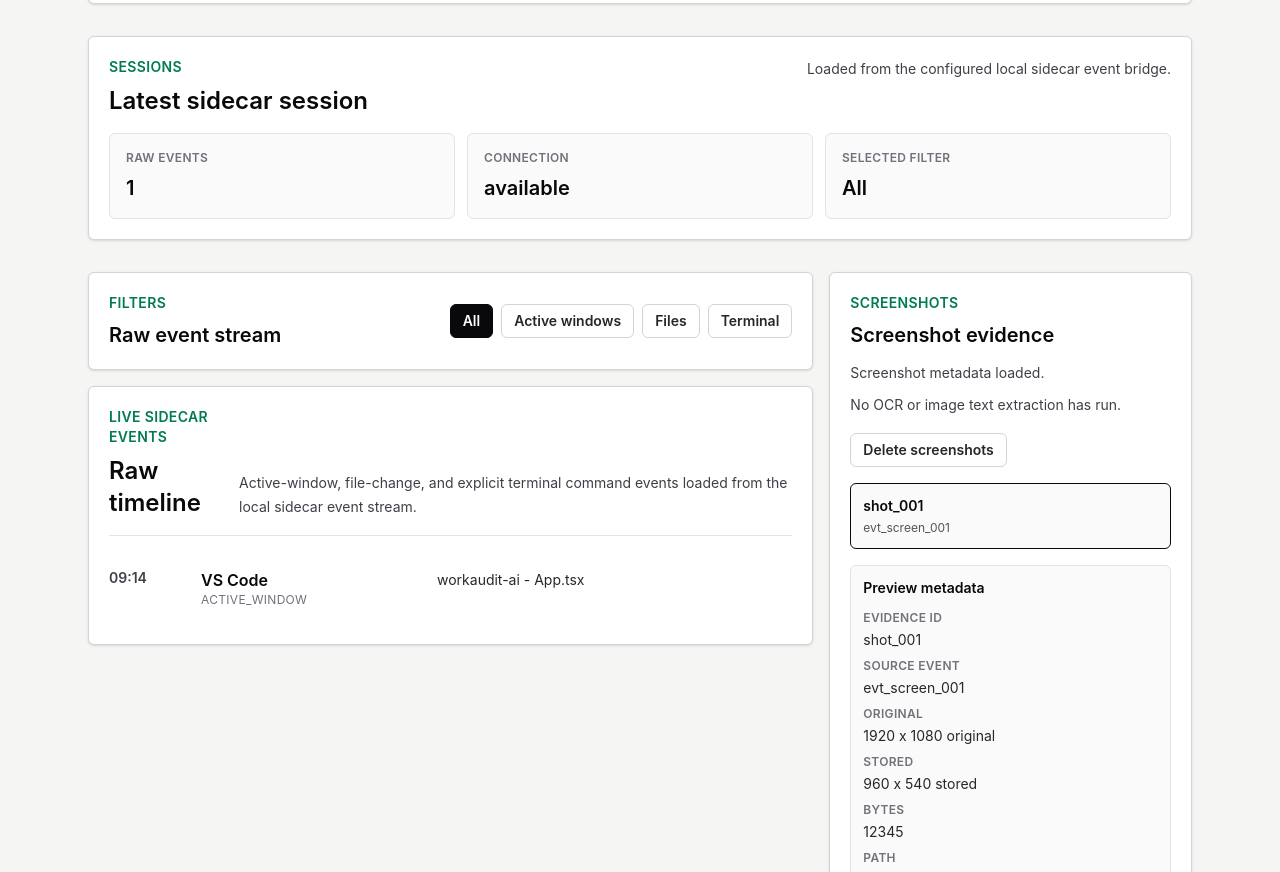
Test: deletes screenshots through the desktop bridge and shows deletion counts
(page scrolled)
expect the 1st text "shot_001" is shown: met, box 863,497 -> 923,514
Step 1. Click the button "Delete screenshots" → (929,450), box 850,433 -> 1007,467
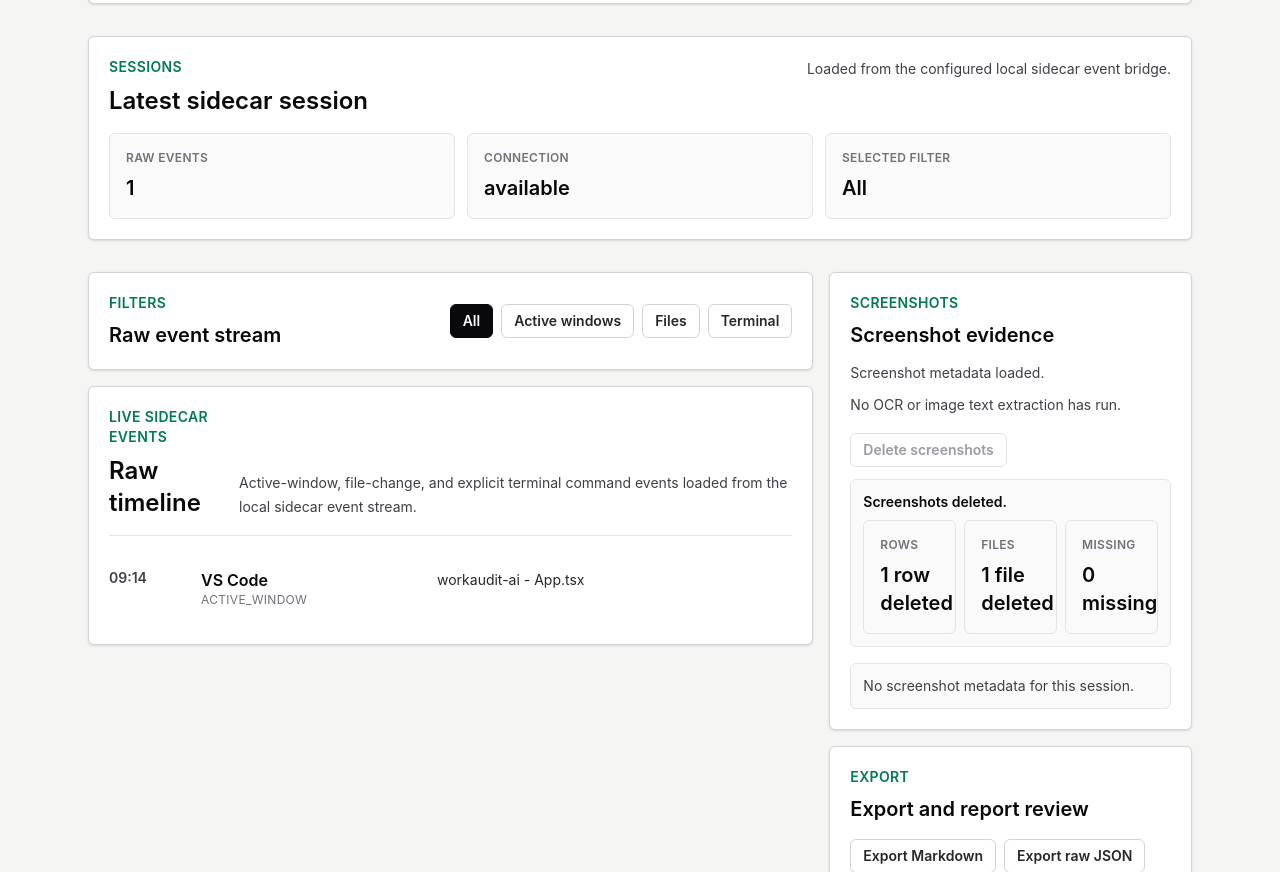
expect the text "Screenshots deleted." is shown: met, box 863,493 -> 1007,510
expect the text "1 row deleted" is shown: met, box 880,561 -> 939,617
expect the text "1 file deleted" is shown: met, box 981,561 -> 1040,617
